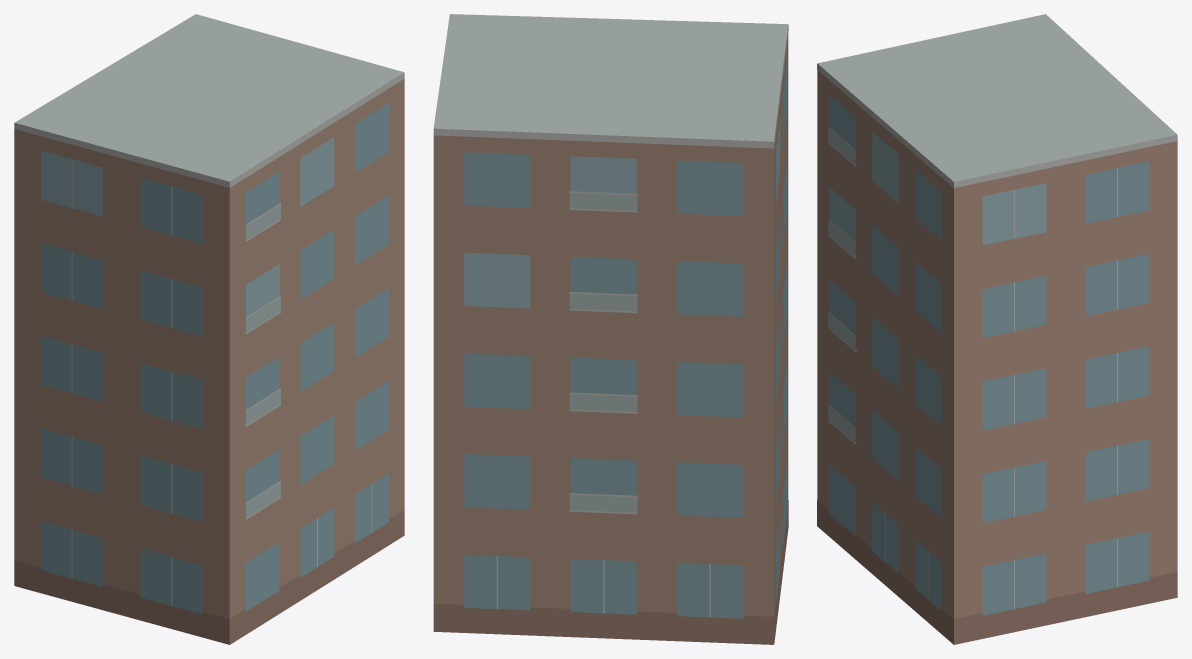
The model's file is survey-upis-32696674.glb.
The picture shows the model from 3 angles, left to right: view 1: azimuth 30°, elevation 25°; view 2: azimuth 150°, elevation 25°; view 3: azimuth 270°, elevation 25°; orthographic projection. The views are drawn at different scales.
Visible parts, largest first — view 1: survey-upis-32696674.tmp; view 2: survey-upis-32696674.tmp; view 3: survey-upis-32696674.tmp.
Part boxes in pixels (x1,y1,x2,y2): survey-upis-32696674.tmp: (14,14,404,644); survey-upis-32696674.tmp: (433,14,788,644); survey-upis-32696674.tmp: (817,14,1177,644).
Size of the model in its own units: 14.18 by 18.2 by 12.85.
